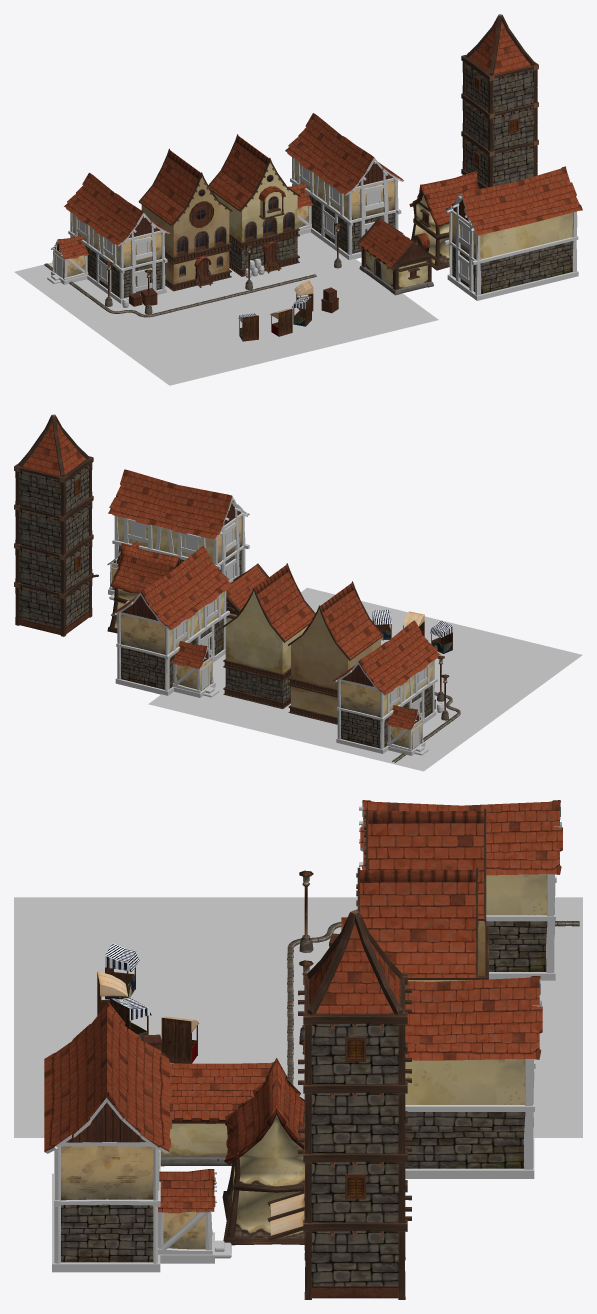
The model's file is bldg2_gameready.fbx.
The picture shows the model from 3 angles, top to bottom: view 1: azimuth 30°, elevation 25°; view 2: azimuth 150°, elevation 25°; view 3: azimuth 270°, elevation 25°; orthographic projection. The views are drawn at different scales.
Visible parts, largest first — view 1: Plane.002; view 2: Plane.002; view 3: Plane.002.
Part boxes in pixels (bbox=[...]): Plane.002: bbox=[14, 14, 582, 385]; Plane.002: bbox=[14, 414, 582, 771]; Plane.002: bbox=[14, 800, 582, 1299].
Size of the model in its own units: 3335 by 1447 by 1994.
